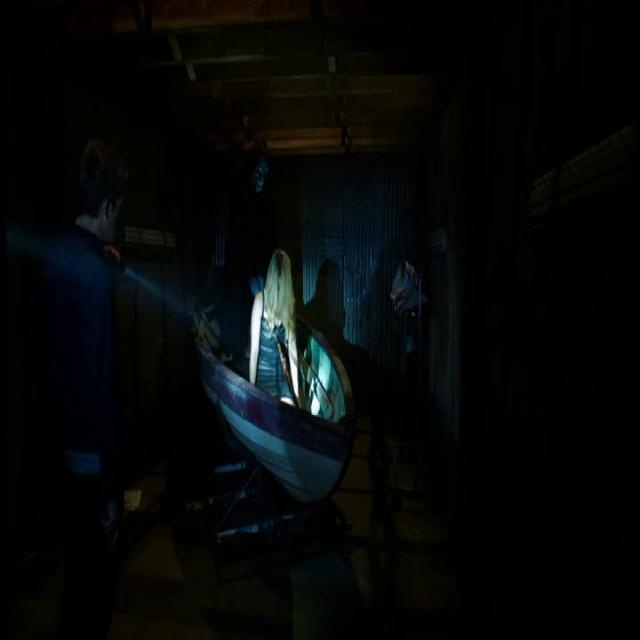Boat: (182, 257, 374, 570)
People: (60, 98, 155, 420), (248, 245, 305, 422), (228, 131, 284, 218)
